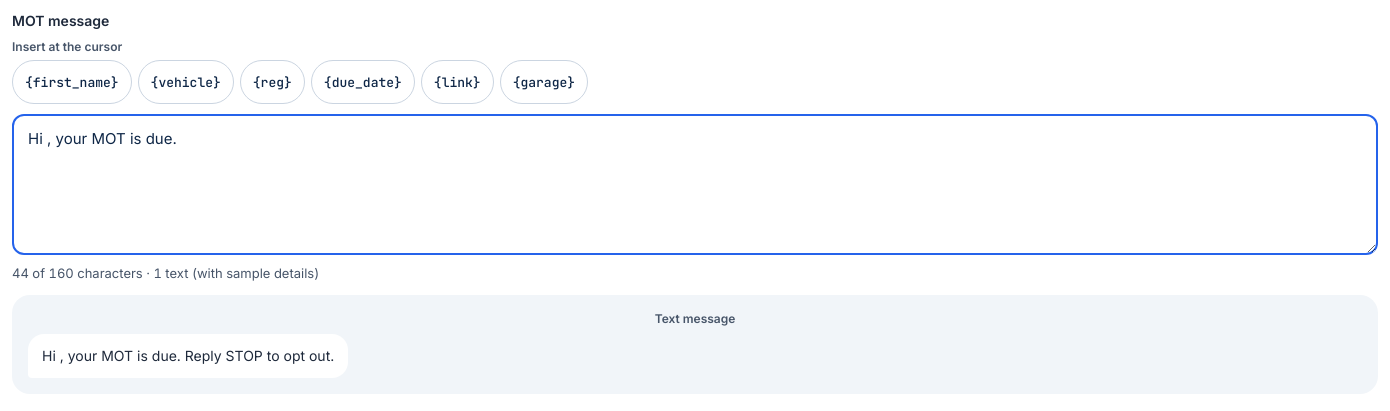
Test: TemplateEditor › inserts a placeholder at the caret and updates the counter
The width and height of the screenshot is (1390, 411).
Click the button "{first_name}": (72, 82) [12,60,132,104]
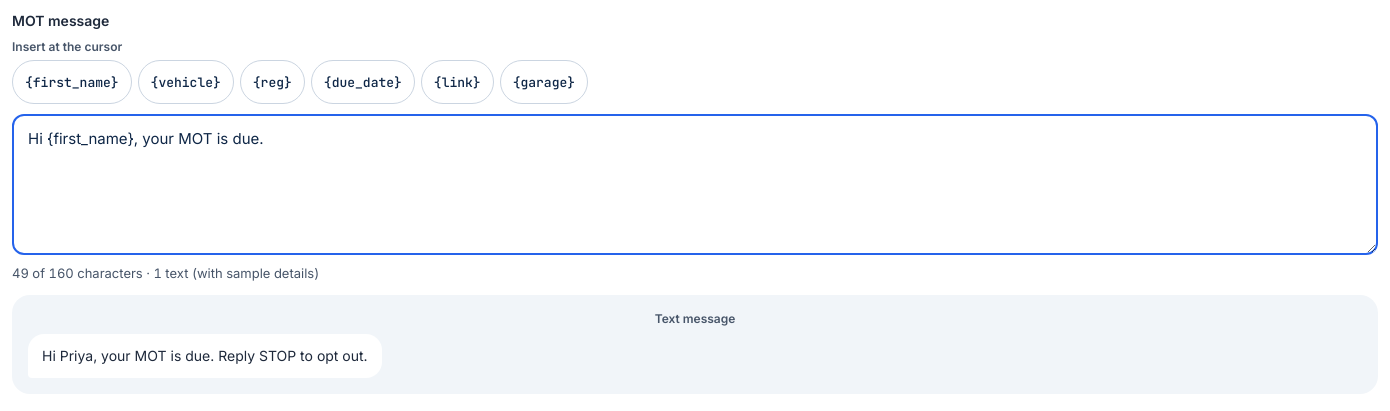
Check: the text box labelled "MOT message" holds "Hi {first_name}, your MOT is due.", box [12,114,1378,254]
